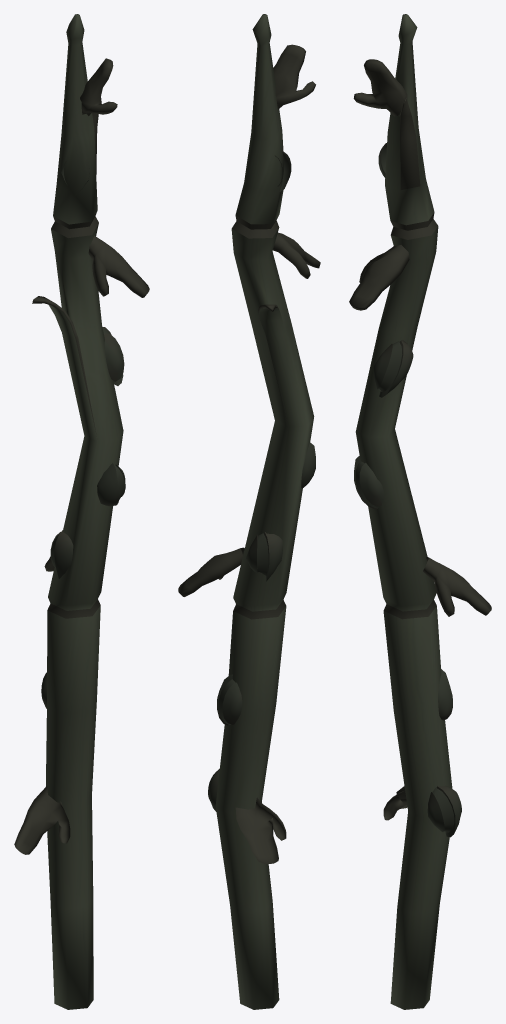
The model's file is Phase 4 Bamboo 1.fbx.
The picture shows the model from 3 angles, left to right: view 1: azimuth 90°, elevation 25°; view 2: azimuth 150°, elevation 25°; view 3: azimuth 330°, elevation 25°; orthographic projection.
Visible parts, largest first — view 1: Bamboo Phase 4 1; view 2: Bamboo Phase 4 1; view 3: Bamboo Phase 4 1.
Boxes of the visible parts, x1,y1,x2,y2 form: Bamboo Phase 4 1: [14, 14, 149, 1009]; Bamboo Phase 4 1: [178, 14, 320, 1009]; Bamboo Phase 4 1: [349, 14, 491, 1009].
Size of the model in its own units: 84.9 by 689 by 85.53.
